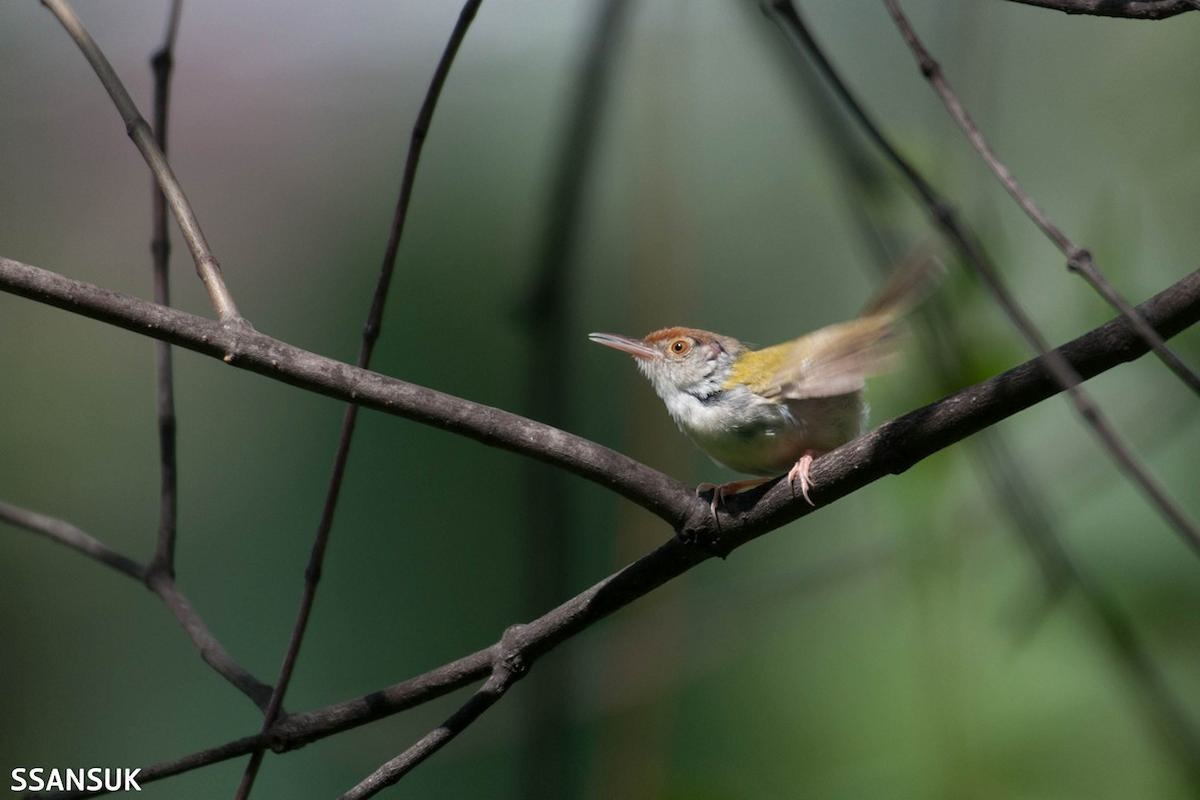tailorbird: (549, 272, 923, 504)
